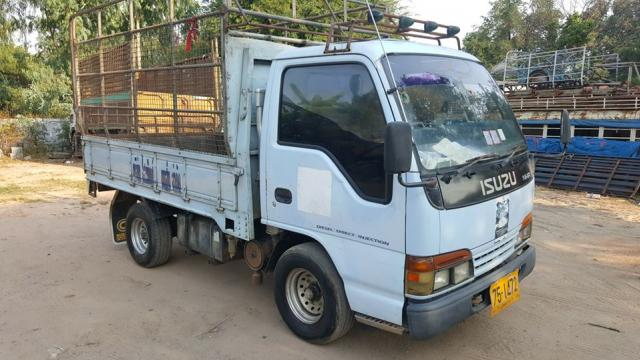truck: (77, 19, 542, 345)
